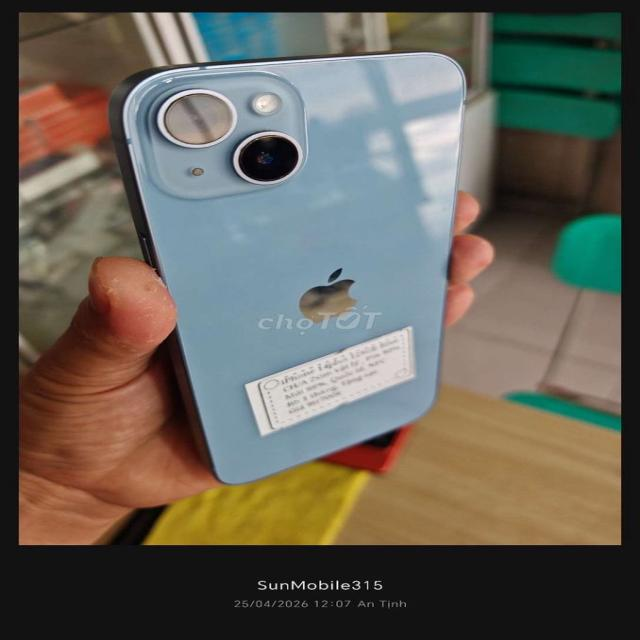gen_14: (104, 37, 459, 488)
